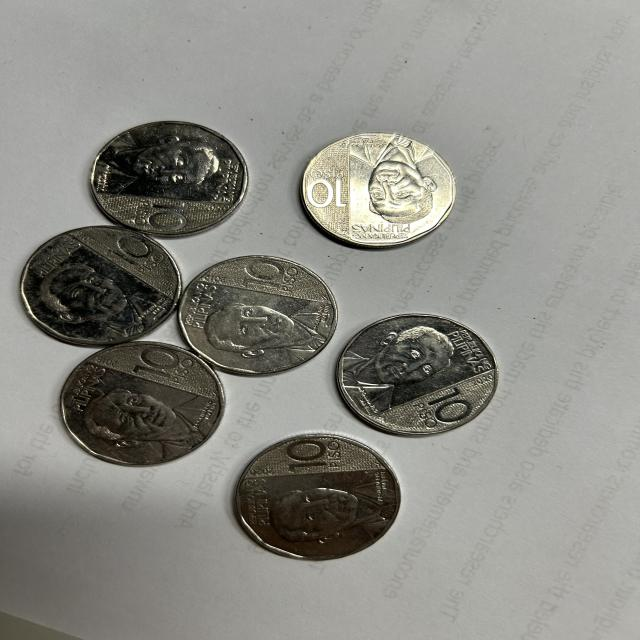10_New_Front: (122, 340, 218, 393), (229, 254, 309, 310), (392, 386, 481, 430), (120, 192, 205, 235), (302, 161, 358, 221), (276, 438, 352, 478), (98, 230, 168, 265)
